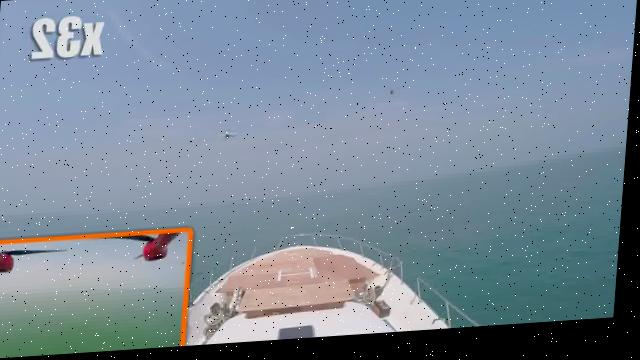drone: (211, 121, 248, 154), (385, 87, 402, 107)
